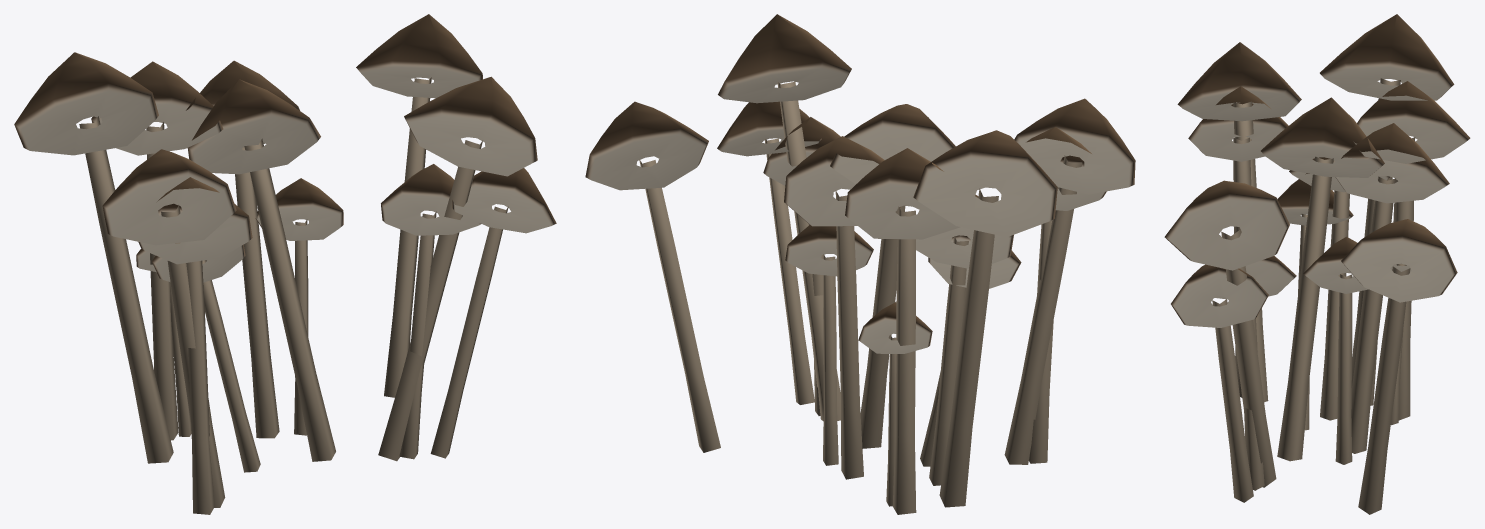
File: mushroom-mycena-b.lod1.glb
The picture shows the model from 3 angles, left to right: view 1: azimuth 30°, elevation 25°; view 2: azimuth 150°, elevation 25°; view 3: azimuth 270°, elevation 25°; orthographic projection. The views are drawn at different scales.
Visible parts, largest first — view 1: mushroom-mycena-b.lod1; view 2: mushroom-mycena-b.lod1; view 3: mushroom-mycena-b.lod1.
Boxes of the visible parts, <box> form: mushroom-mycena-b.lod1: <box>14,14,556,514</box>; mushroom-mycena-b.lod1: <box>585,14,1135,514</box>; mushroom-mycena-b.lod1: <box>1164,14,1470,514</box>.
Bounding box in the file's own units: 0.0915 × 0.0769 × 0.0586.
